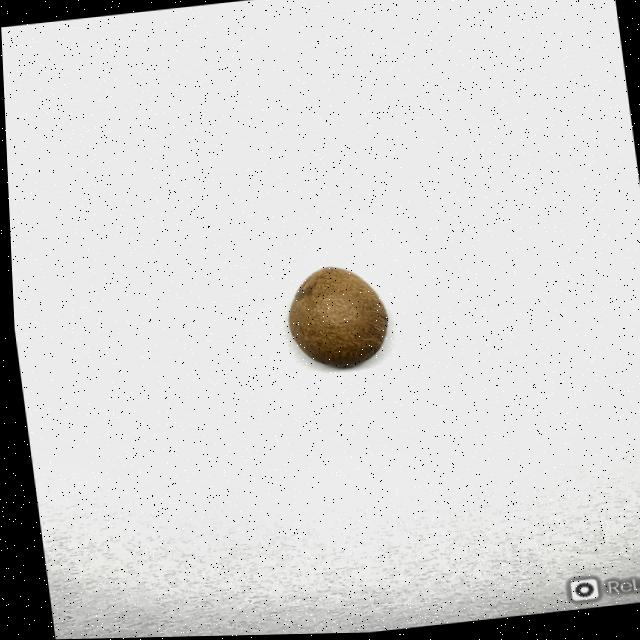Quaker: (277, 261, 391, 374)
